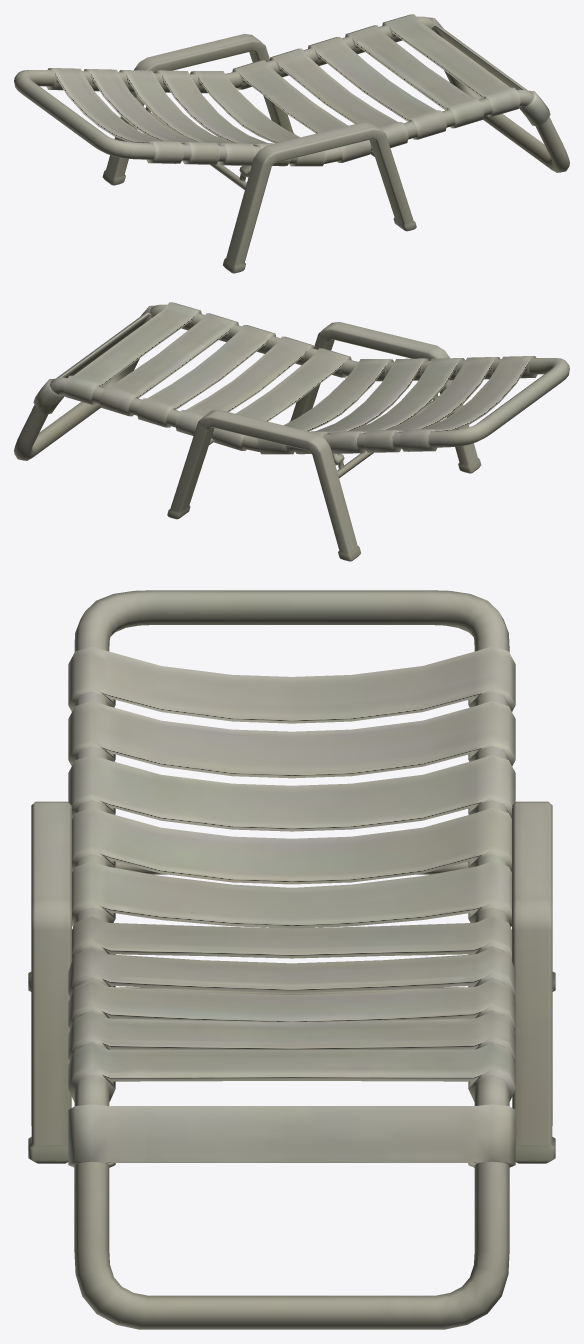
The picture shows the model from 3 angles, top to bottom: view 1: azimuth 30°, elevation 25°; view 2: azimuth 150°, elevation 25°; view 3: azimuth 270°, elevation 25°; orthographic projection. The views are drawn at different scales.
Bounding box in the file's own units: 19.55 × 5.83 × 9.54.
Materials: 1 (1 with a texture image).
